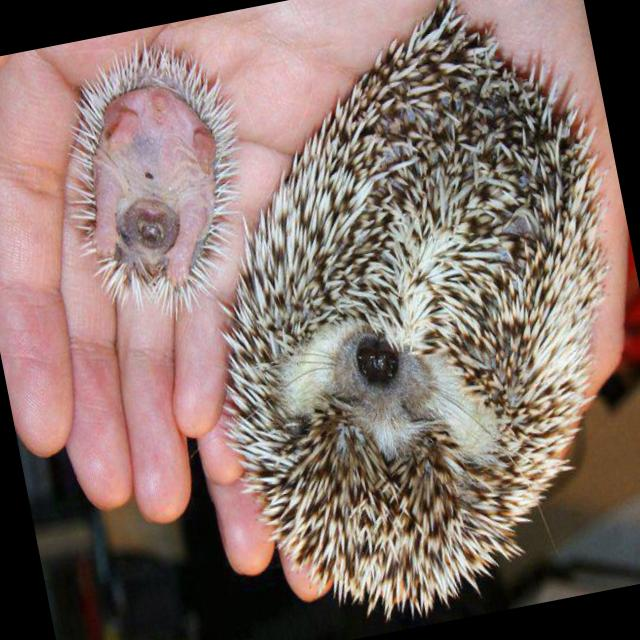Hedgehog: (165, 0, 640, 640), (44, 32, 263, 314)
